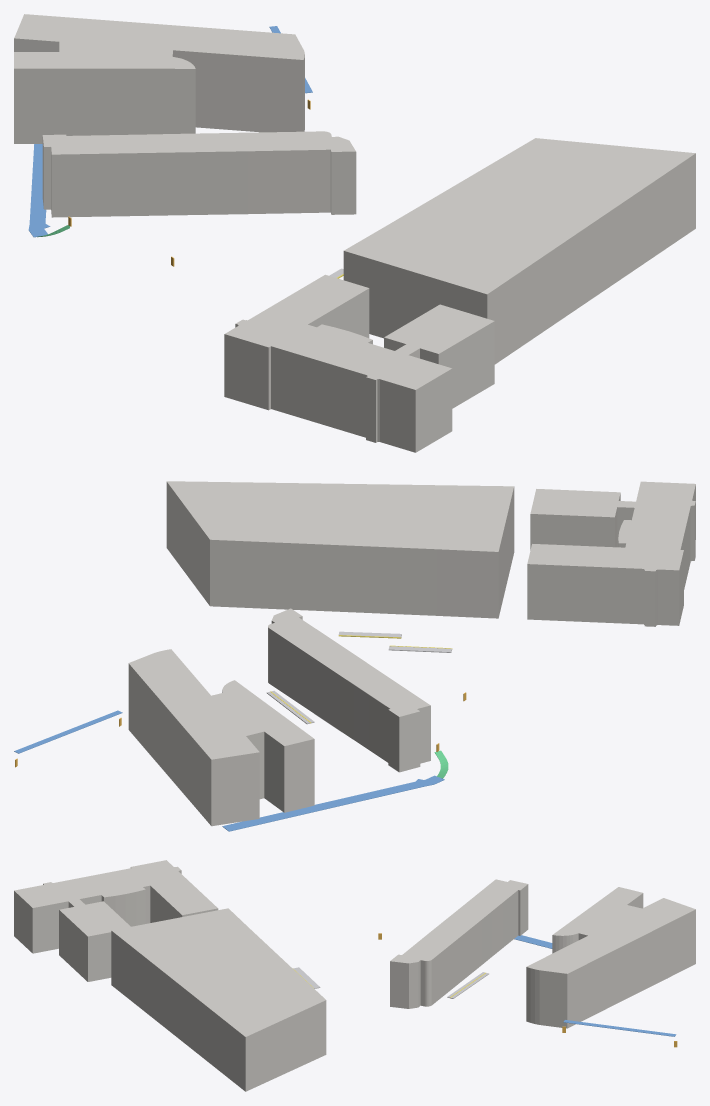
Rendered from 8571342-bern-inselplatz.glb.
3 views of the same model, one above another, from view 1: azimuth 30°, elevation 25°; view 2: azimuth 150°, elevation 25°; view 3: azimuth 270°, elevation 25° (orthographic). The views are drawn at different scales.
Visible parts, largest first — view 1: building_part@x, passage@-1; view 2: building_part@x, passage@-1, platform_body@0; view 3: building_part@x, platform_body@0, passage@1.
Part boxes in pixels (x1,y1,x2,y2): building_part@x: (14, 14, 695, 452); passage@-1: (28, 144, 50, 237); building_part@x: (128, 481, 695, 826); passage@-1: (222, 775, 444, 831); platform_body@0: (266, 631, 451, 724); building_part@x: (14, 860, 695, 1091); platform_body@0: (293, 967, 488, 998); passage@1: (563, 1020, 676, 1036).
Size of the model in its own units: 153 by 25.62 by 237.
